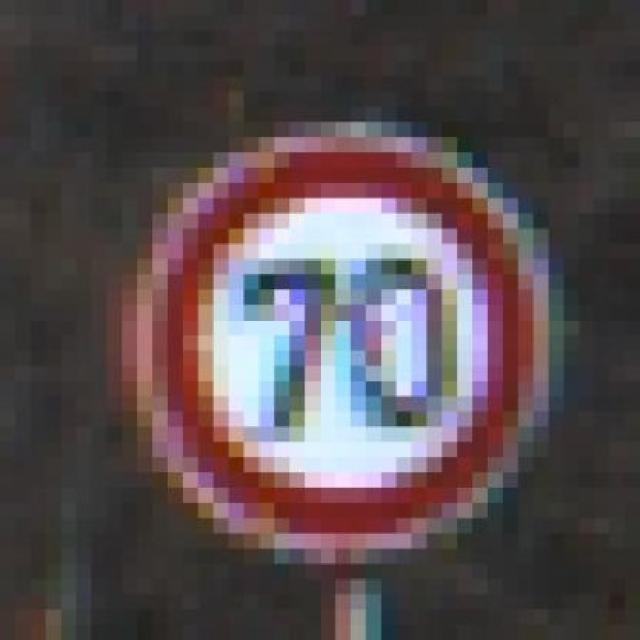forb_speed_over_70: (156, 138, 539, 541)
